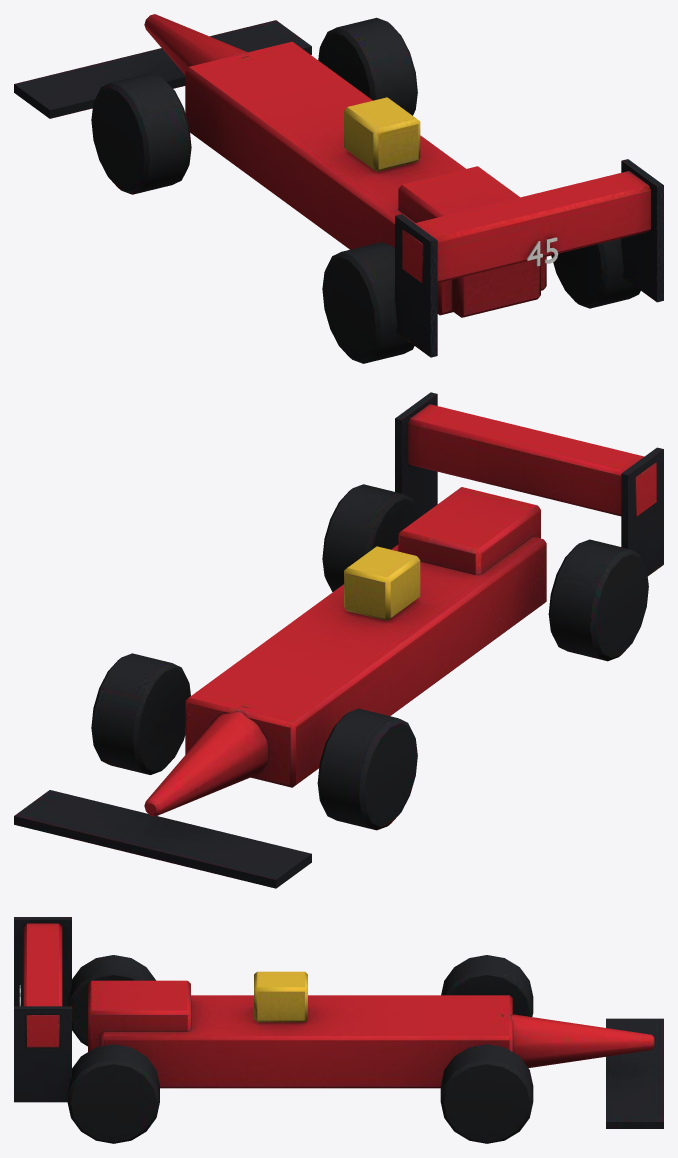
Rendered from indycar.glb.
The picture shows the model from 3 angles, top to bottom: view 1: azimuth 30°, elevation 25°; view 2: azimuth 150°, elevation 25°; view 3: azimuth 270°, elevation 25°; orthographic projection. The views are drawn at different scales.
Parts seen in each view (by area): view 1: indycar; view 2: indycar; view 3: indycar.
Part boxes in pixels (left/top/right/bottom): indycar: left=14, top=14, right=663, bottom=363; indycar: left=14, top=392, right=663, bottom=888; indycar: left=14, top=917, right=663, bottom=1143.
Bounding box in the file's own units: 1.98 × 1.1 × 5.05.
1 material, 1 textured.
